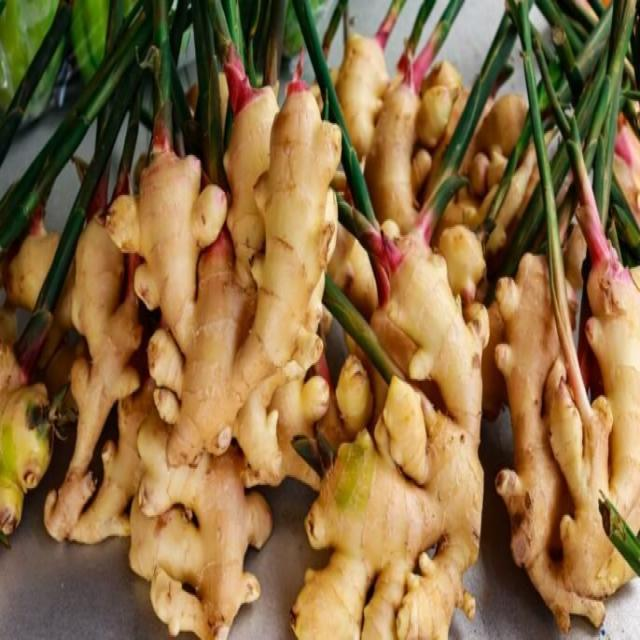ginger: (107, 51, 340, 482)
